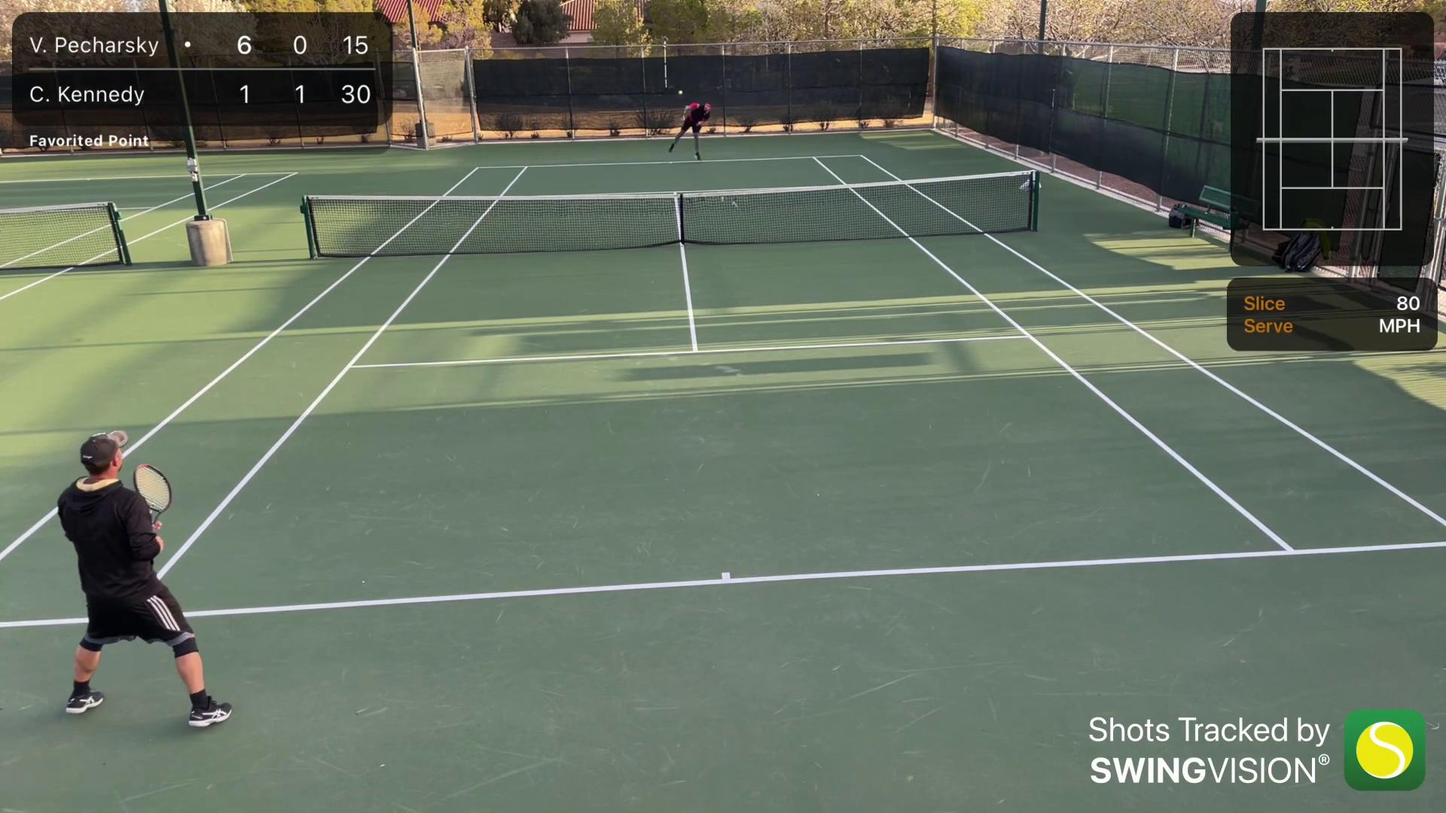ball: (677, 90, 683, 97)
